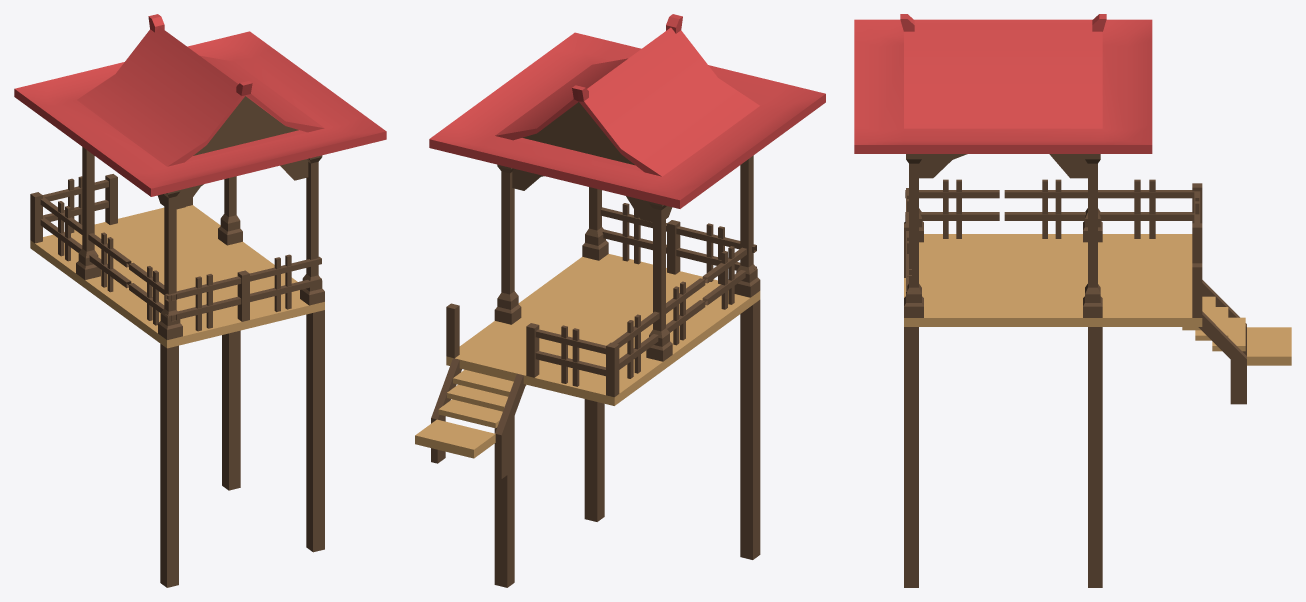
Rendered from Gazebo.fbx.
3 views of the same model, side by side, from view 1: azimuth 30°, elevation 25°; view 2: azimuth 150°, elevation 25°; view 3: azimuth 270°, elevation 25° (orthographic). The views are drawn at different scales.
Visible parts, largest first — view 1: RoofSide.005; view 2: RoofSide.005; view 3: RoofSide.005.
Part boxes in pixels (left/top/right/bottom): RoofSide.005: left=14, top=14, right=386, bottom=587; RoofSide.005: left=415, top=14, right=825, bottom=587; RoofSide.005: left=854, top=14, right=1291, bottom=587.
Size of the model in its own units: 298 by 588 by 440.
